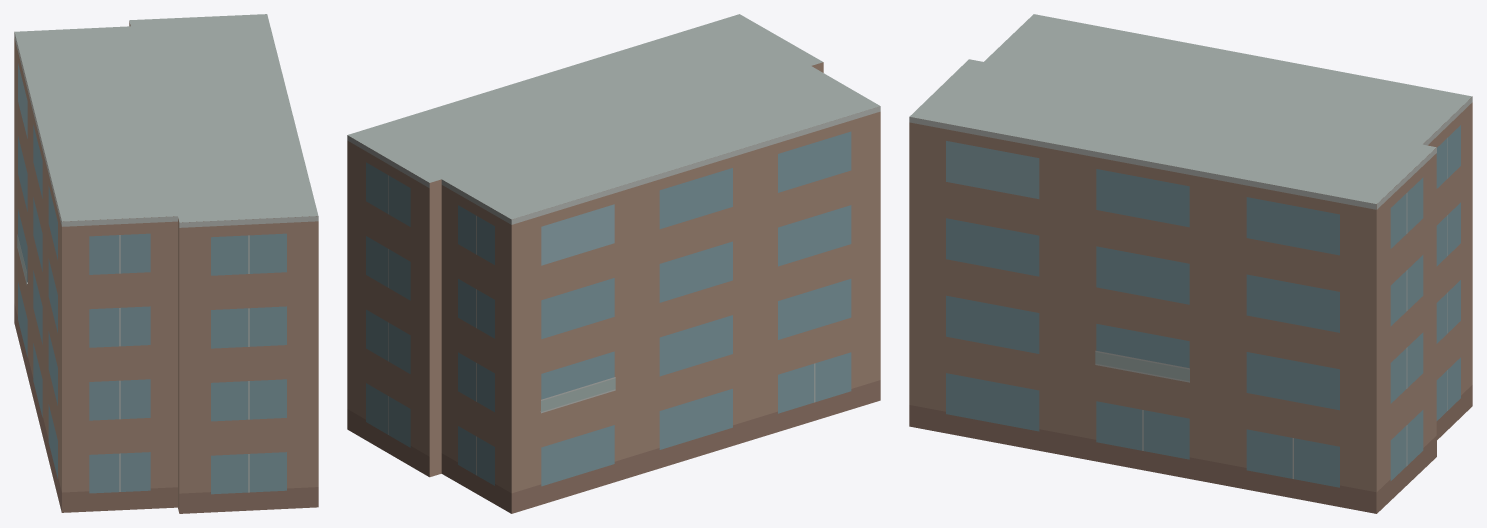
File: survey-upis-32669154.glb
3 renders of one model, left to right at view 1: azimuth 30°, elevation 25°; view 2: azimuth 150°, elevation 25°; view 3: azimuth 270°, elevation 25°, orthographic. The views are drawn at different scales.
Visible parts, largest first — view 1: survey-upis-32669154.tmp; view 2: survey-upis-32669154.tmp; view 3: survey-upis-32669154.tmp.
Boxes of the visible parts, x1,y1,x2,y2 form: survey-upis-32669154.tmp: [14, 14, 318, 513]; survey-upis-32669154.tmp: [347, 14, 880, 513]; survey-upis-32669154.tmp: [909, 14, 1472, 513].
Size of the model in its own units: 17.58 by 13.34 by 21.99.
